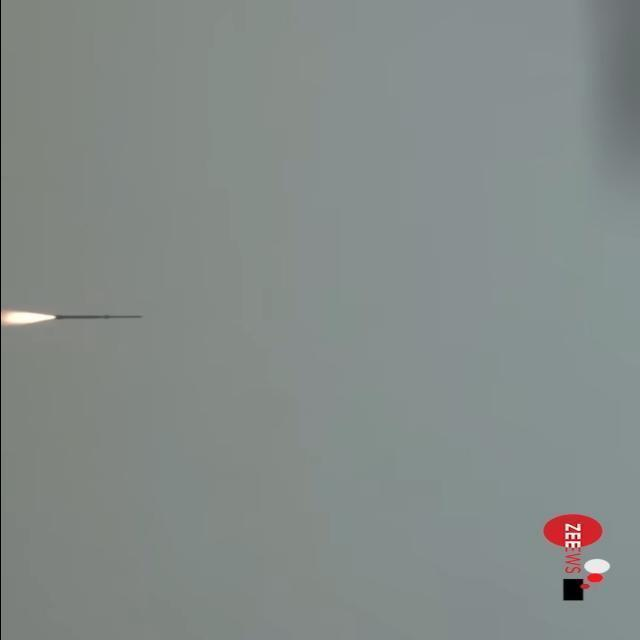missile: (59, 309, 143, 325)
